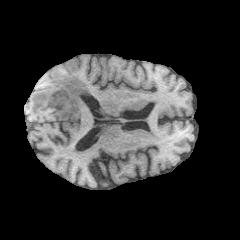glioma: (30, 75, 92, 121)
